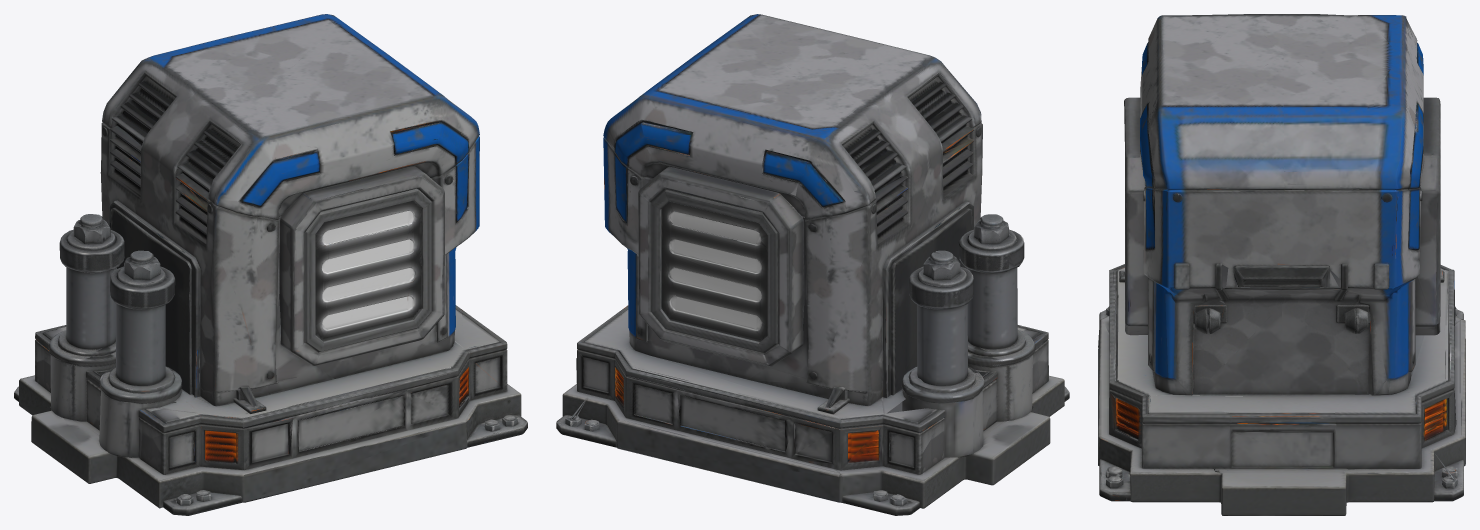
File: Meshy_AI_Industrial_Power_Modu_1019185524_texture.fbx
3 renders of one model, left to right at view 1: azimuth 30°, elevation 25°; view 2: azimuth 150°, elevation 25°; view 3: azimuth 270°, elevation 25°, orthographic. The views are drawn at different scales.
Parts seen in each view (by area): view 1: Mesh_0; view 2: Mesh_0; view 3: Mesh_0.
Part boxes in pixels (x1,y1,x2,y2): Mesh_0: (14,14,527,515); Mesh_0: (556,14,1069,515); Mesh_0: (1098,14,1465,515).
Bounding box in the file's own units: 95.75 × 73 × 67.72.
Materials: 1 (1 with a texture image).
